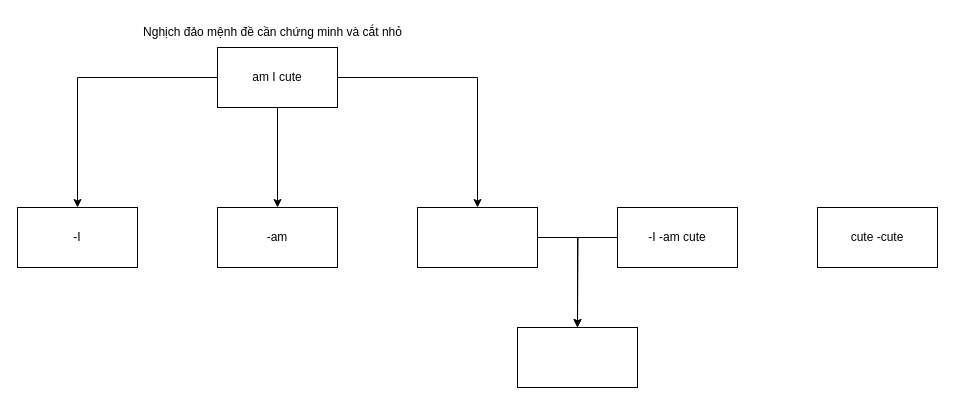
The diagram is 955 pixels wide and 405 high, and some of its shapes have lost their labels. The centre of each missing label's shape, as x and y in pixels:
-cute: the point at 477,237
-I -am: the point at 577,357
